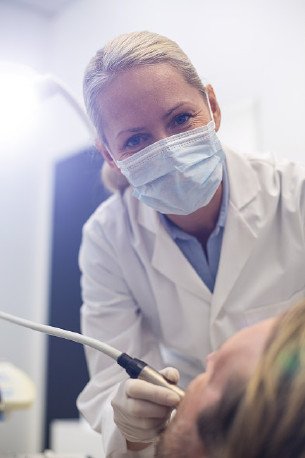face_mask: (110, 65, 224, 214)
